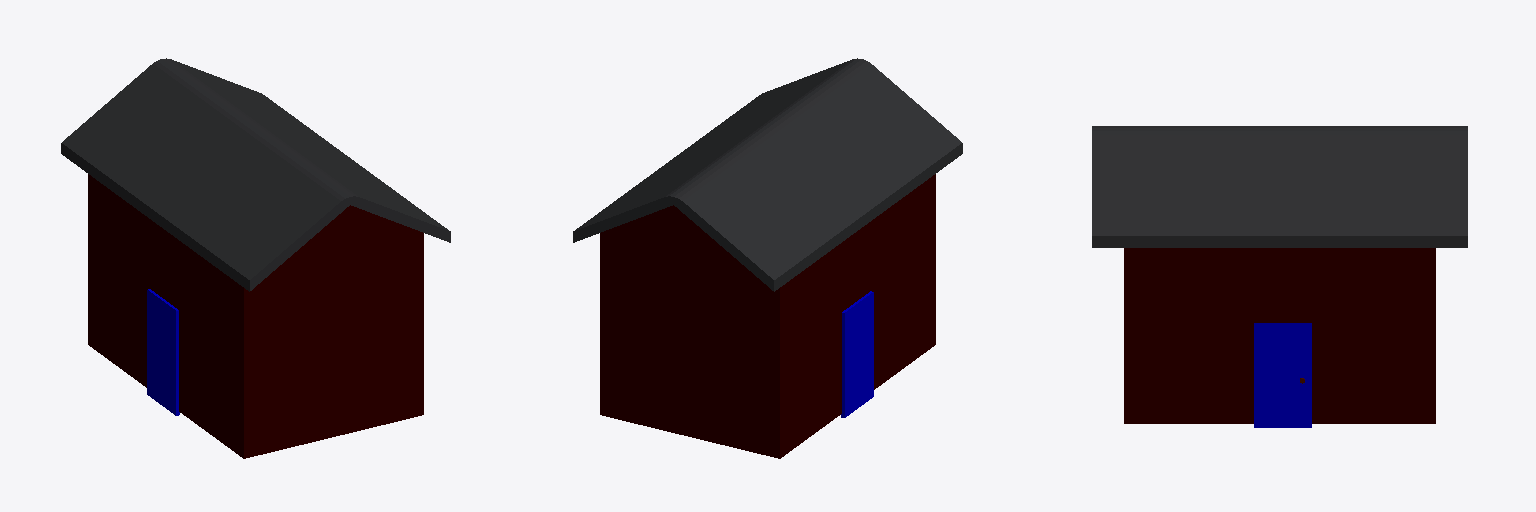
The model's file is allTest.obj.
3 views of the same model, side by side, from view 1: azimuth 30°, elevation 25°; view 2: azimuth 150°, elevation 25°; view 3: azimuth 270°, elevation 25° (orthographic).
Visible parts, largest first — view 1: HouseFloor.001, HouseRoof.001, HouseDoor.002; view 2: HouseFloor.001, HouseRoof.001, HouseDoor.002; view 3: HouseFloor.001, HouseRoof.001, HouseDoor.001.
Part boxes in pixels (bbox=[...]): HouseFloor.001: bbox=[88, 174, 423, 458]; HouseRoof.001: bbox=[61, 58, 450, 291]; HouseDoor.002: bbox=[147, 289, 179, 415]; HouseFloor.001: bbox=[600, 174, 935, 458]; HouseRoof.001: bbox=[573, 58, 962, 291]; HouseDoor.002: bbox=[841, 291, 873, 417]; HouseFloor.001: bbox=[1124, 248, 1435, 423]; HouseRoof.001: bbox=[1092, 126, 1467, 247]; HouseDoor.001: bbox=[1254, 323, 1311, 427].
Bounding box in the file's own units: 11.03 × 13.43 × 17.91.